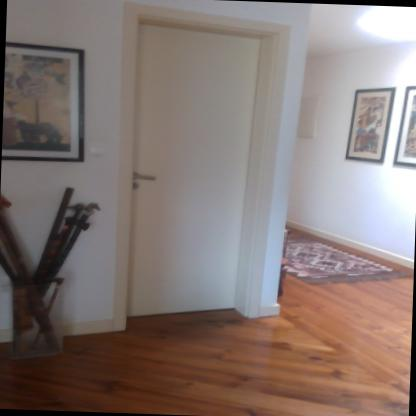closed: (107, 11, 299, 342)
